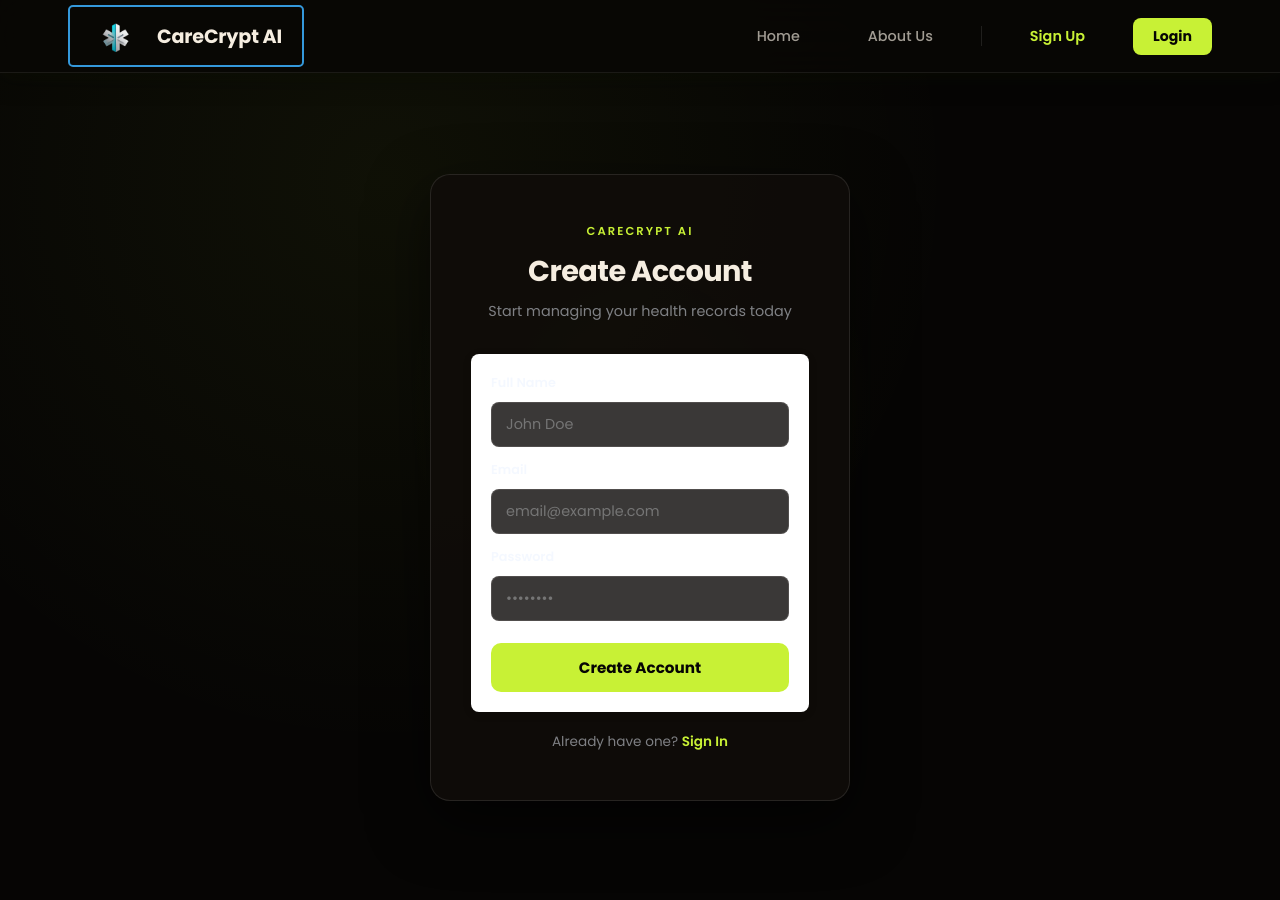
Test case: End-to-end: signing up from the real App reaches the profile page and unlocks Dashboard nav
In the field labelled "Full Name": coordinates (640, 424) [491,402,789,446], type "Jordan Doe"
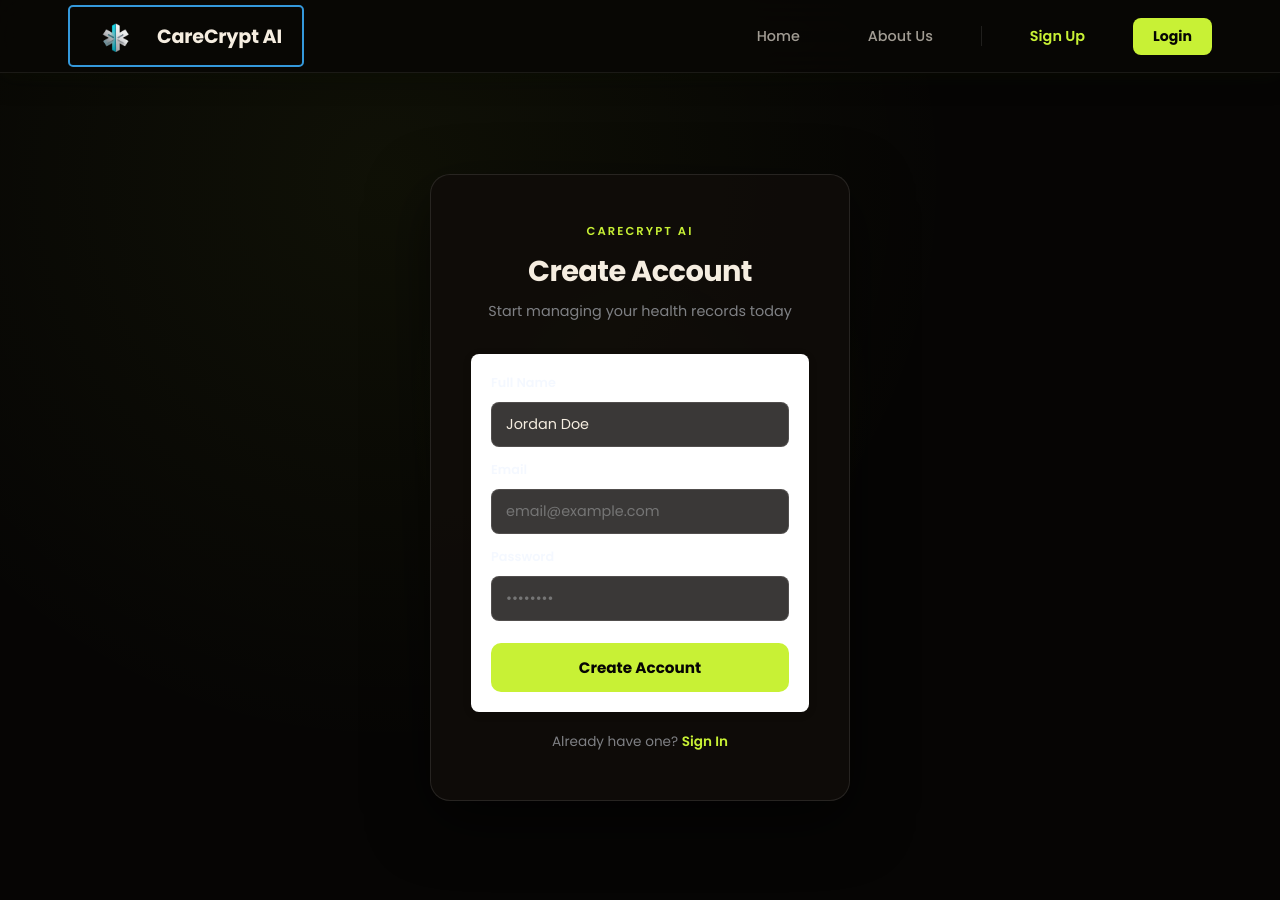
In the field labelled "Email": coordinates (640, 511) [491,488,789,534], type "jordan@example.com"
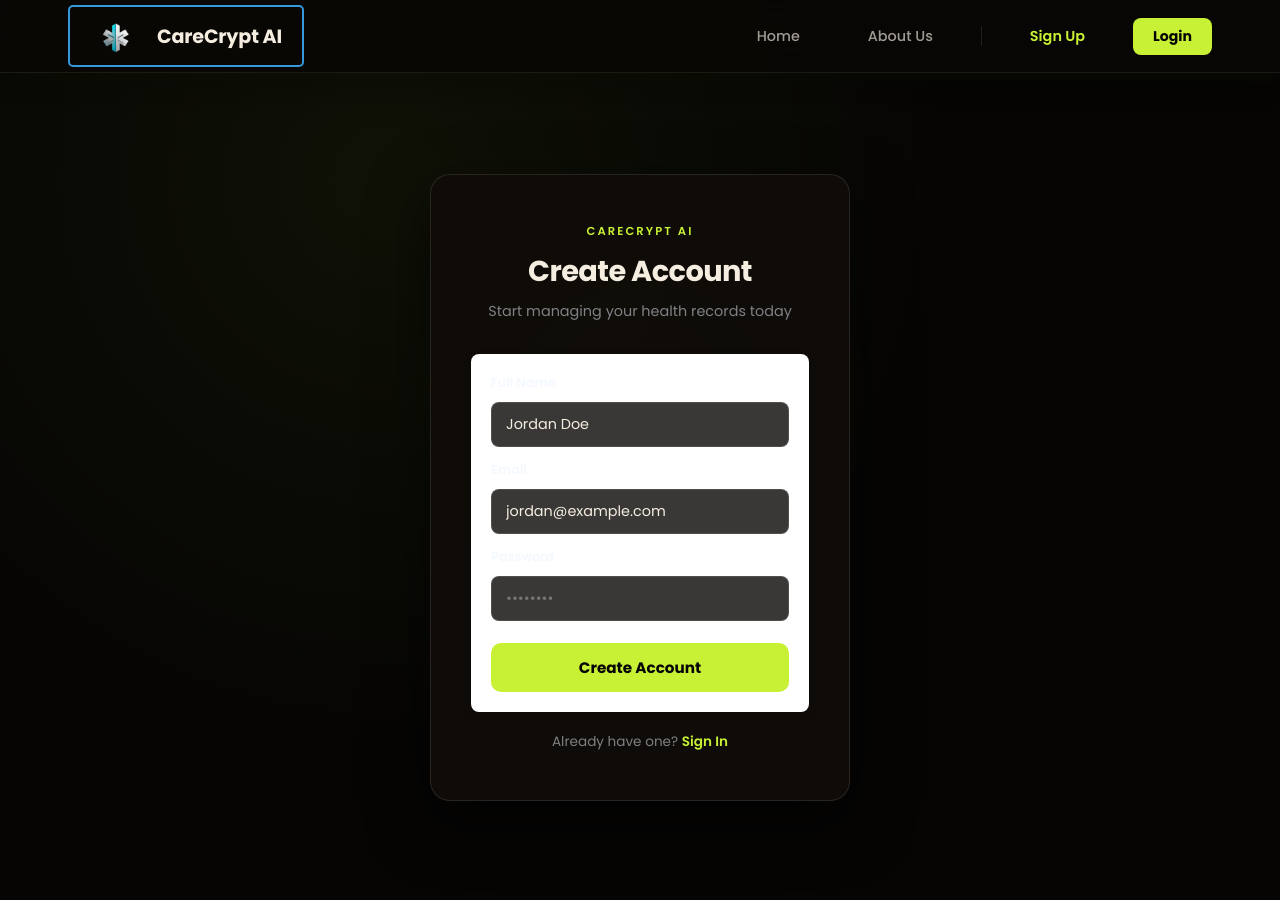
In the password field labelled "Password": coordinates (640, 598) [491,576,789,620], type "hunter2"
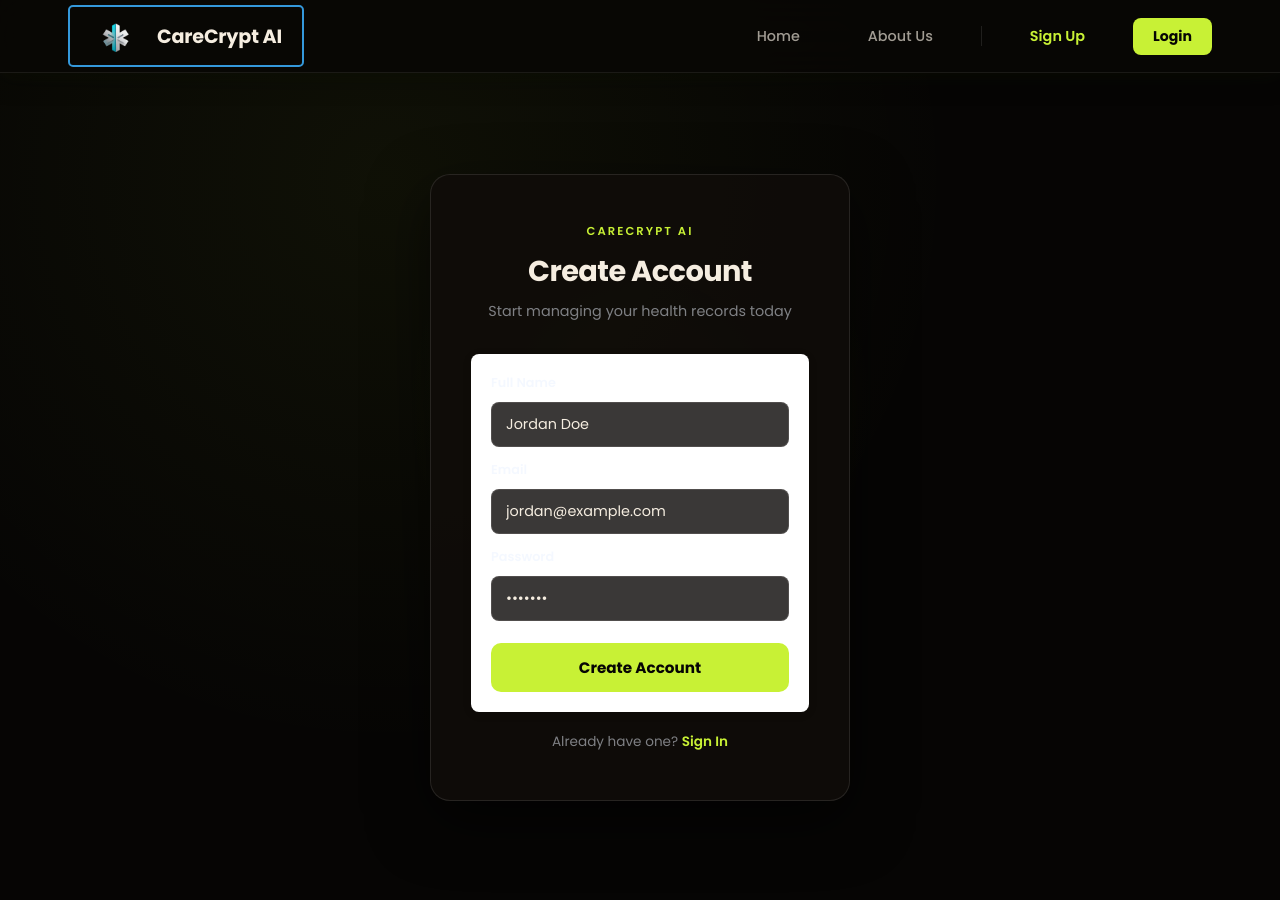
Click the button "Create Account": coordinates (640, 667) [491,642,789,692]
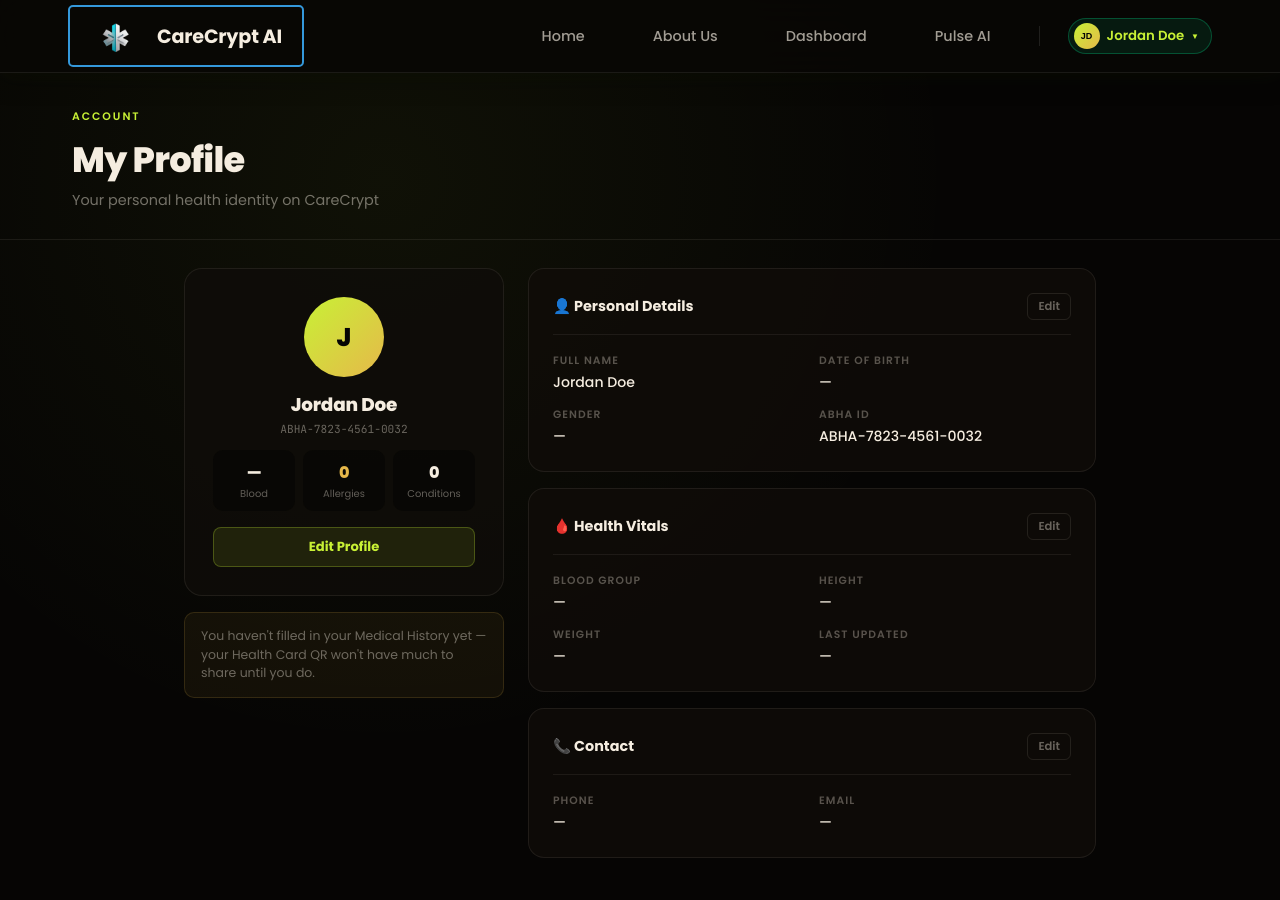
Check: the link "Dashboard" is shown, box [786,26,867,46]
